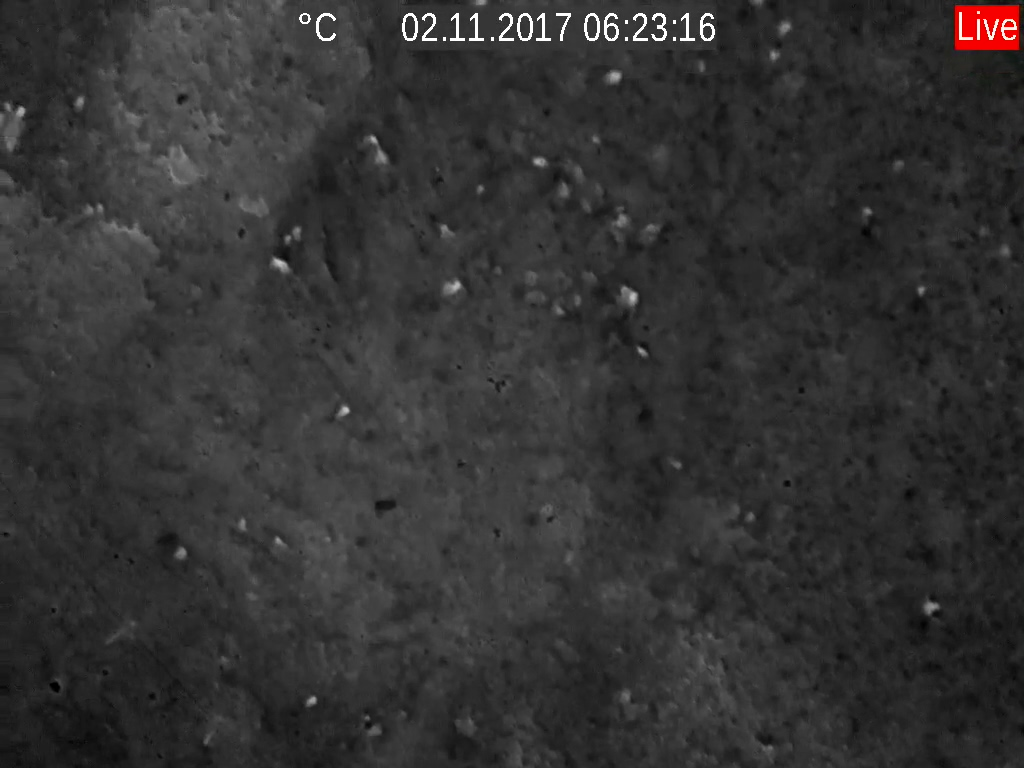warren: (1, 99, 27, 157), (359, 130, 392, 167), (99, 619, 133, 652), (439, 272, 468, 304), (919, 588, 945, 622), (268, 249, 296, 279), (661, 446, 689, 473), (527, 147, 554, 172), (197, 718, 218, 749), (631, 340, 656, 362), (331, 400, 353, 422), (300, 690, 322, 711)
